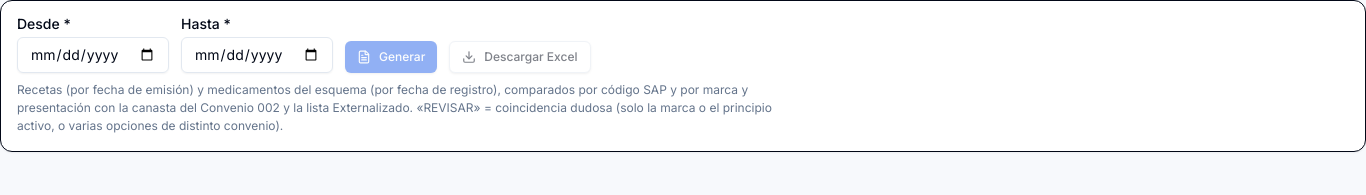
Test case: ExternalizadoReporte › exige el período antes de generar
Expected: the button with test id "btn-generar-externalizado" is disabled, [345, 41, 437, 73]
Type "2031-05-31" into the date field labelled "Desde *" at (93, 55), box [17, 37, 169, 73]
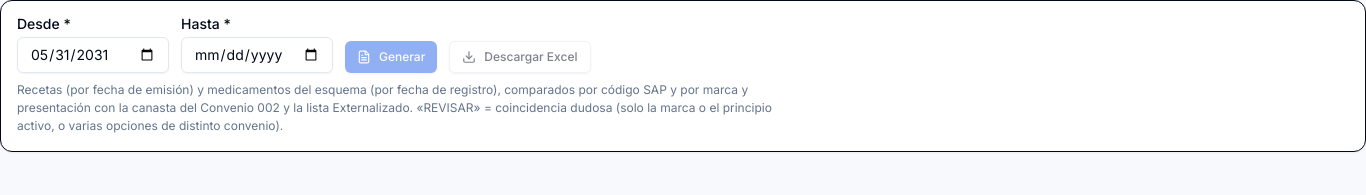
Type "2031-05-01" into the date field labelled "Hasta *" at (257, 55), box [181, 37, 333, 73]
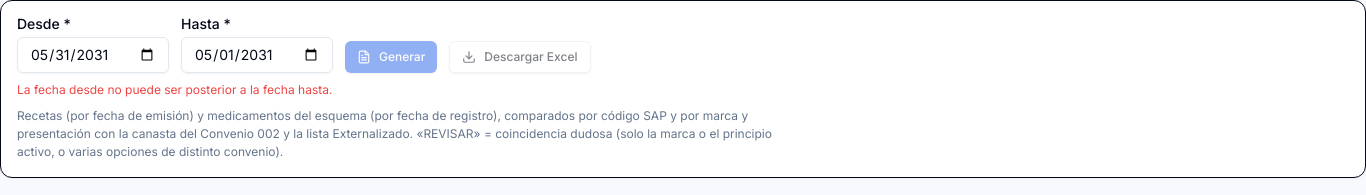
Expected: the button with test id "btn-generar-externalizado" is disabled, [345, 41, 437, 73]
Expected: the text "La fecha desde no puede ser posterior a la fecha hasta." is shown, [17, 82, 332, 97]
